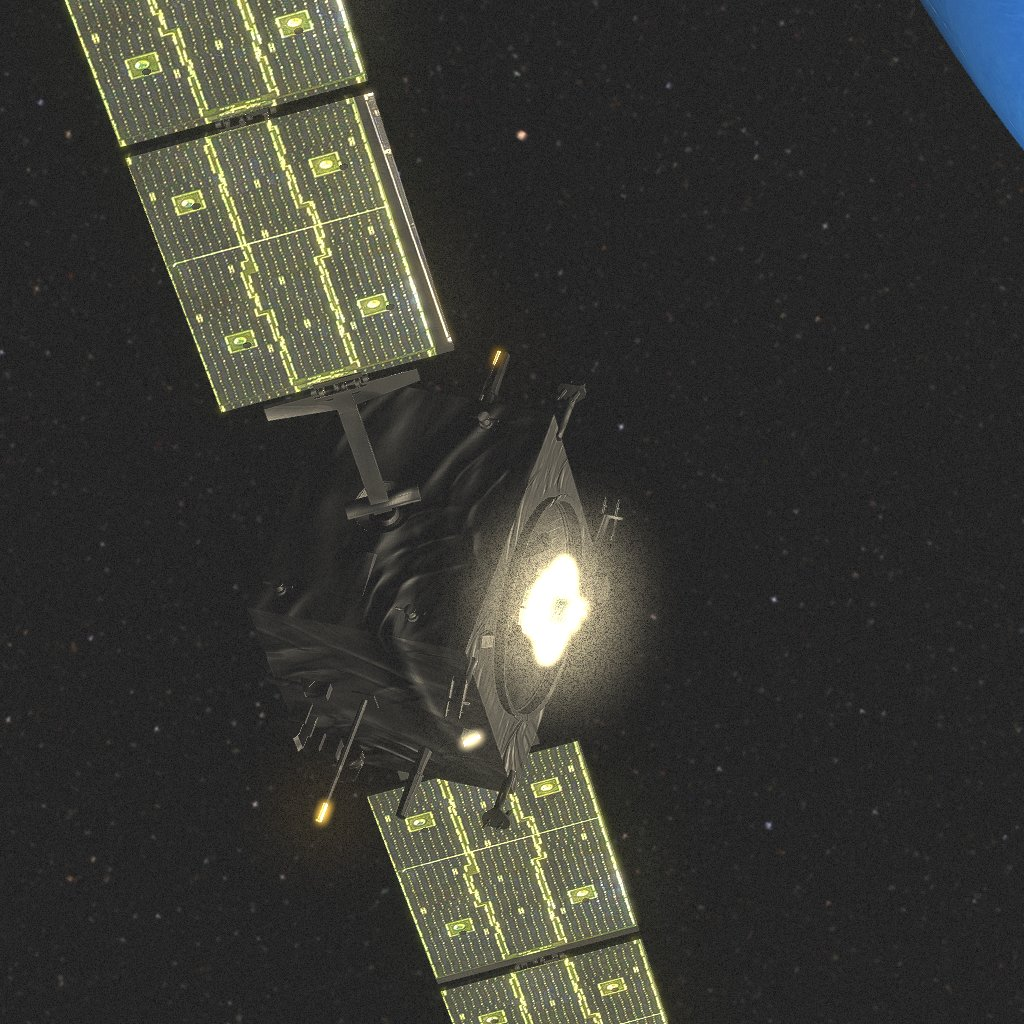smart_1: (97, 7, 665, 1012)
